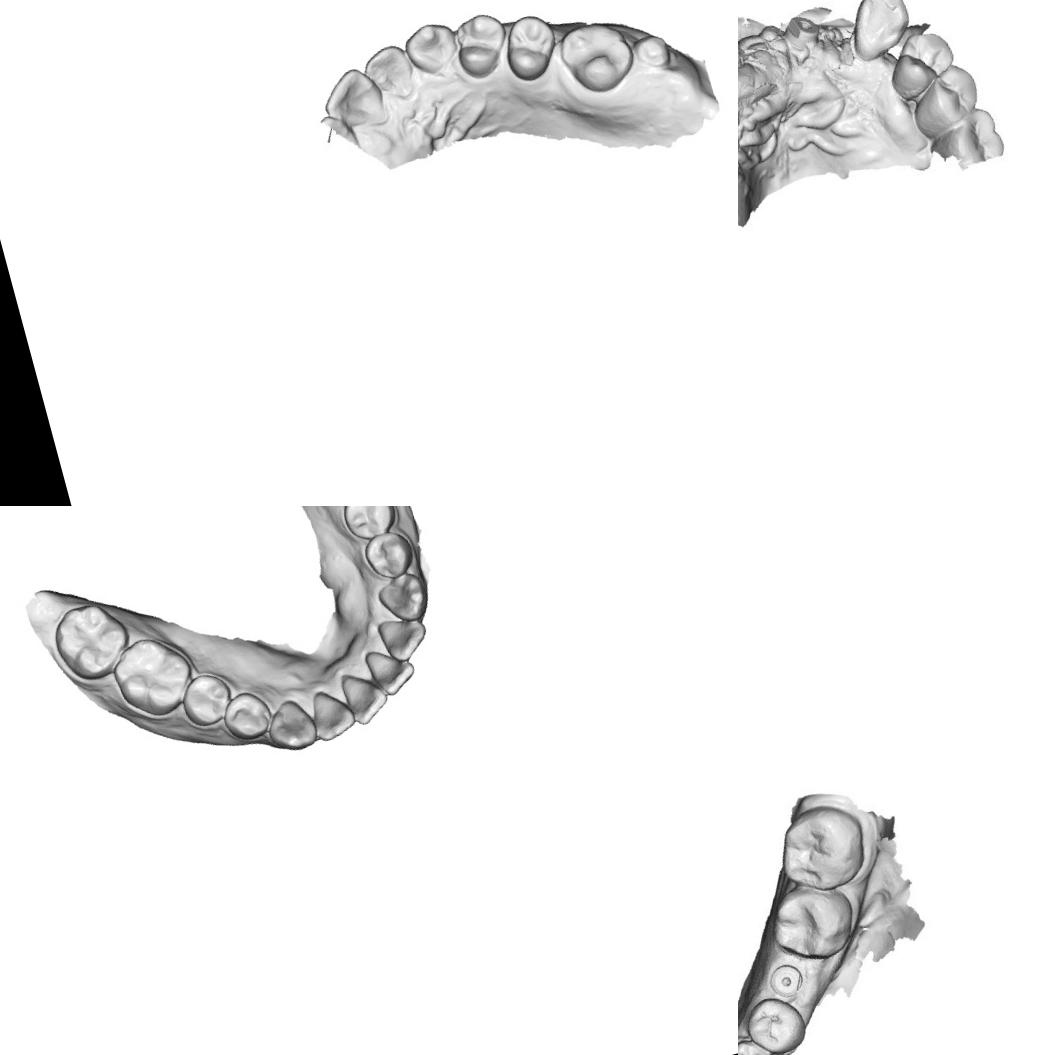canine: (841, 0, 917, 65), (400, 16, 463, 80), (260, 693, 321, 758), (372, 568, 433, 628)
implant: (771, 1, 826, 57), (764, 958, 810, 1002), (738, 33, 750, 76)
incisor: (315, 62, 389, 137), (358, 38, 420, 106), (337, 664, 393, 728), (362, 640, 420, 700), (304, 680, 358, 743), (374, 609, 432, 666)
molar: (766, 797, 874, 900), (759, 874, 861, 968), (104, 626, 200, 725), (45, 594, 138, 688), (552, 12, 642, 101)
premolar: (906, 59, 990, 143), (886, 20, 956, 100), (495, 7, 565, 85), (448, 7, 516, 84), (738, 991, 808, 1055), (174, 666, 237, 730), (359, 524, 418, 584), (216, 686, 276, 745), (337, 506, 401, 543), (738, 1030, 781, 1055)
